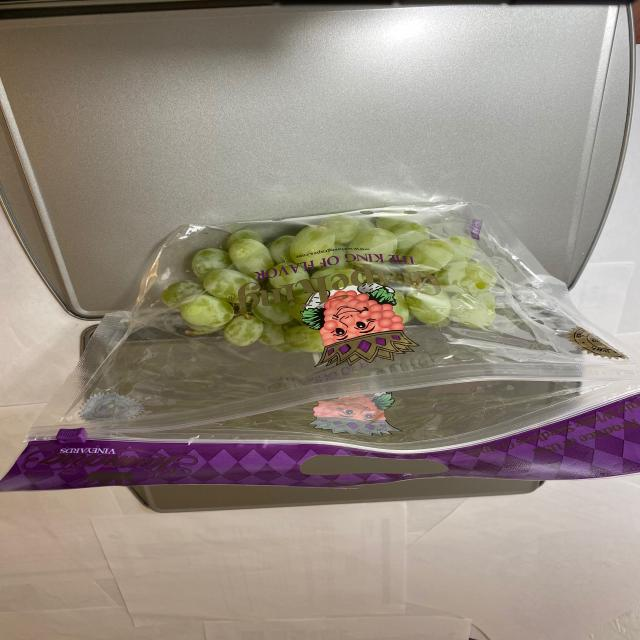grapes: (158, 218, 524, 350)
